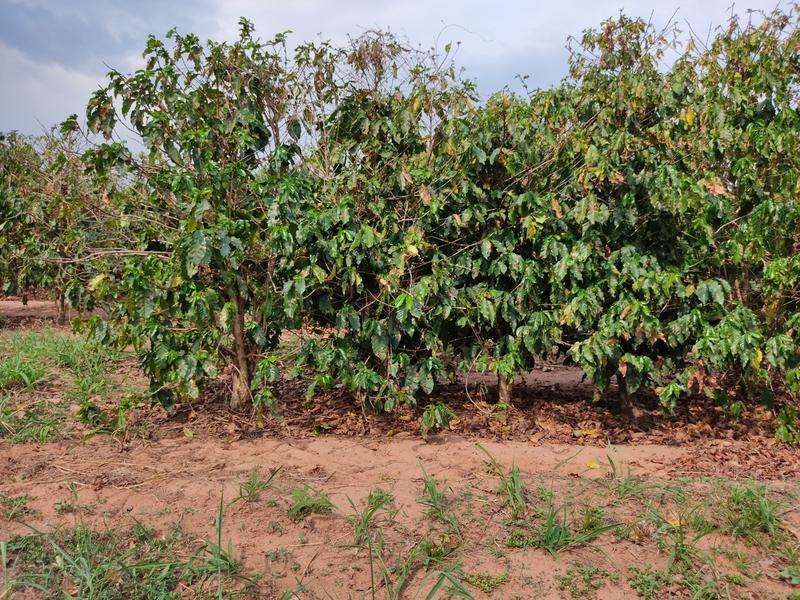coffee: (117, 21, 298, 418), (683, 6, 800, 412), (564, 22, 680, 419), (304, 14, 406, 414), (458, 95, 549, 412), (395, 68, 467, 403)
